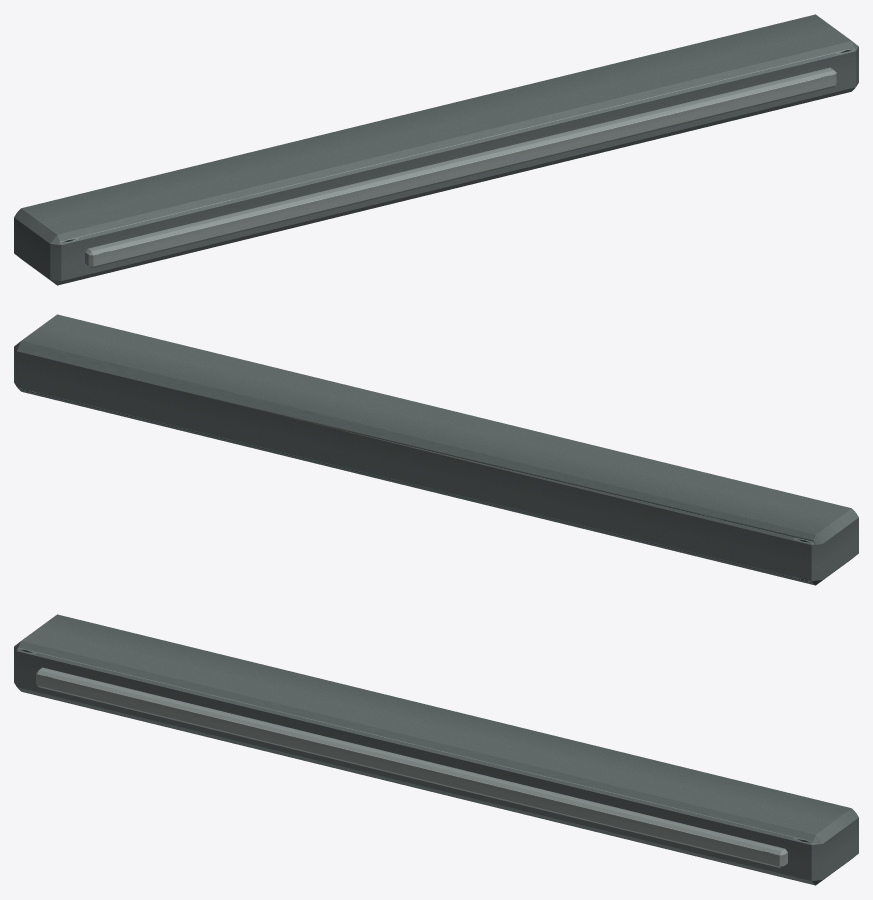
The model's file is beam_4m_LOD1.obj.
3 renders of one model, top to bottom at view 1: azimuth 30°, elevation 25°; view 2: azimuth 150°, elevation 25°; view 3: azimuth 330°, elevation 25°, orthographic.
Parts seen in each view (by area): view 1: L02_beam_4m_LOD1; view 2: L02_beam_4m_LOD1; view 3: L02_beam_4m_LOD1.
Boxes of the visible parts, left/top/right/bottom form: L02_beam_4m_LOD1: left=14, top=14, right=858, bottom=285; L02_beam_4m_LOD1: left=14, top=314, right=858, bottom=585; L02_beam_4m_LOD1: left=14, top=614, right=858, bottom=885.
Size of the model in its own units: 4 by 0.24 by 0.43.
Materials: 1 (1 with a texture image).
